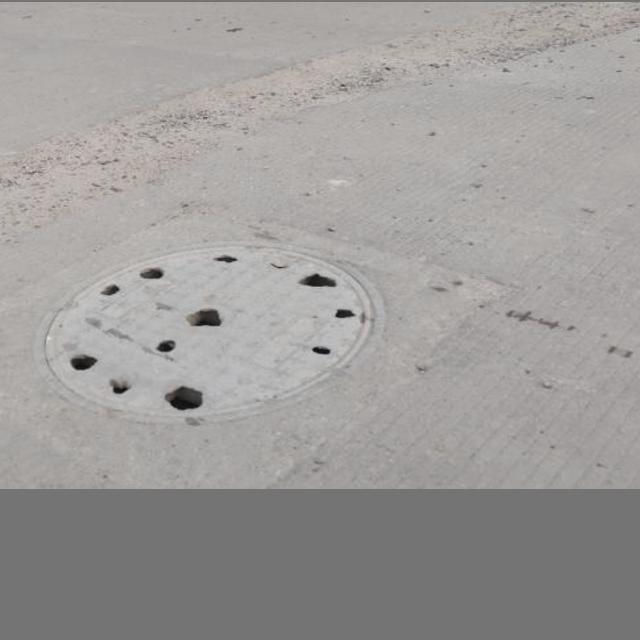broke: (33, 241, 383, 418)
